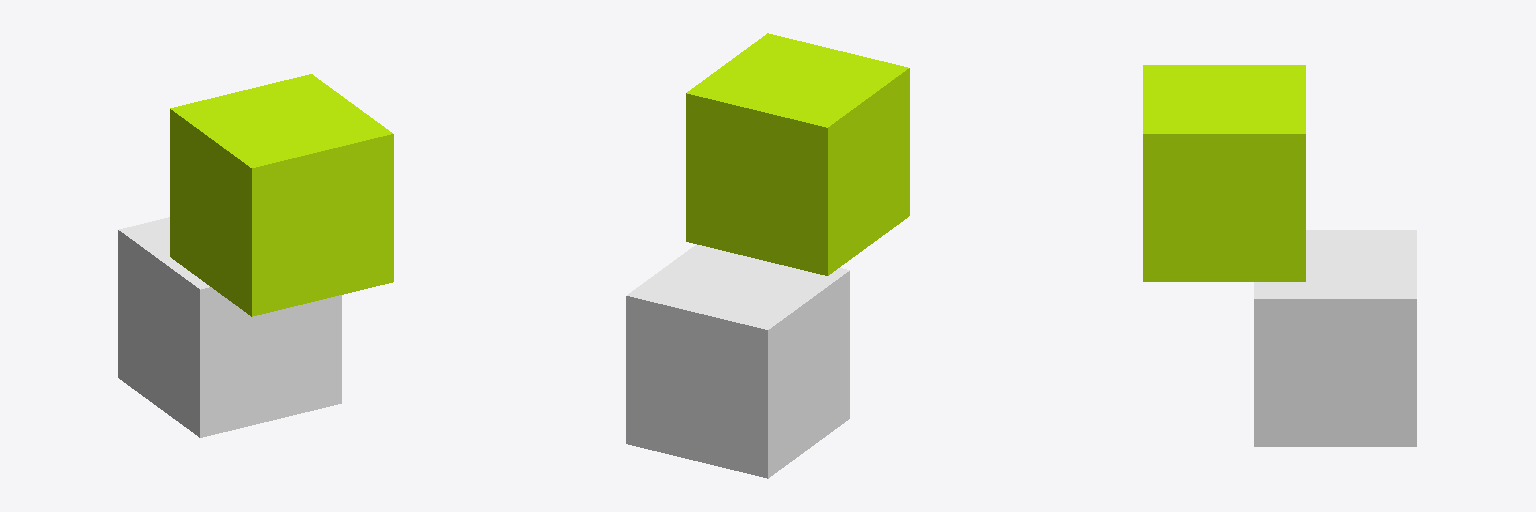
File: Movable8.obj
3 renders of one model, left to right at view 1: azimuth 30°, elevation 25°; view 2: azimuth 150°, elevation 25°; view 3: azimuth 270°, elevation 25°, orthographic.
Parts seen in each view (by area): view 1: Movable, Static; view 2: Movable, Static; view 3: Movable, Static.
Boxes of the visible parts, x1=… form: Movable: x1=170, y1=74, x2=393, y2=316; Static: x1=118, y1=217, x2=341, y2=437; Movable: x1=686, y1=33, x2=909, y2=275; Static: x1=626, y1=244, x2=849, y2=478; Movable: x1=1143, y1=65, x2=1305, y2=281; Static: x1=1254, y1=230, x2=1416, y2=446.
Size of the model in its own units: 0.2057 by 0.4194 by 0.3355.